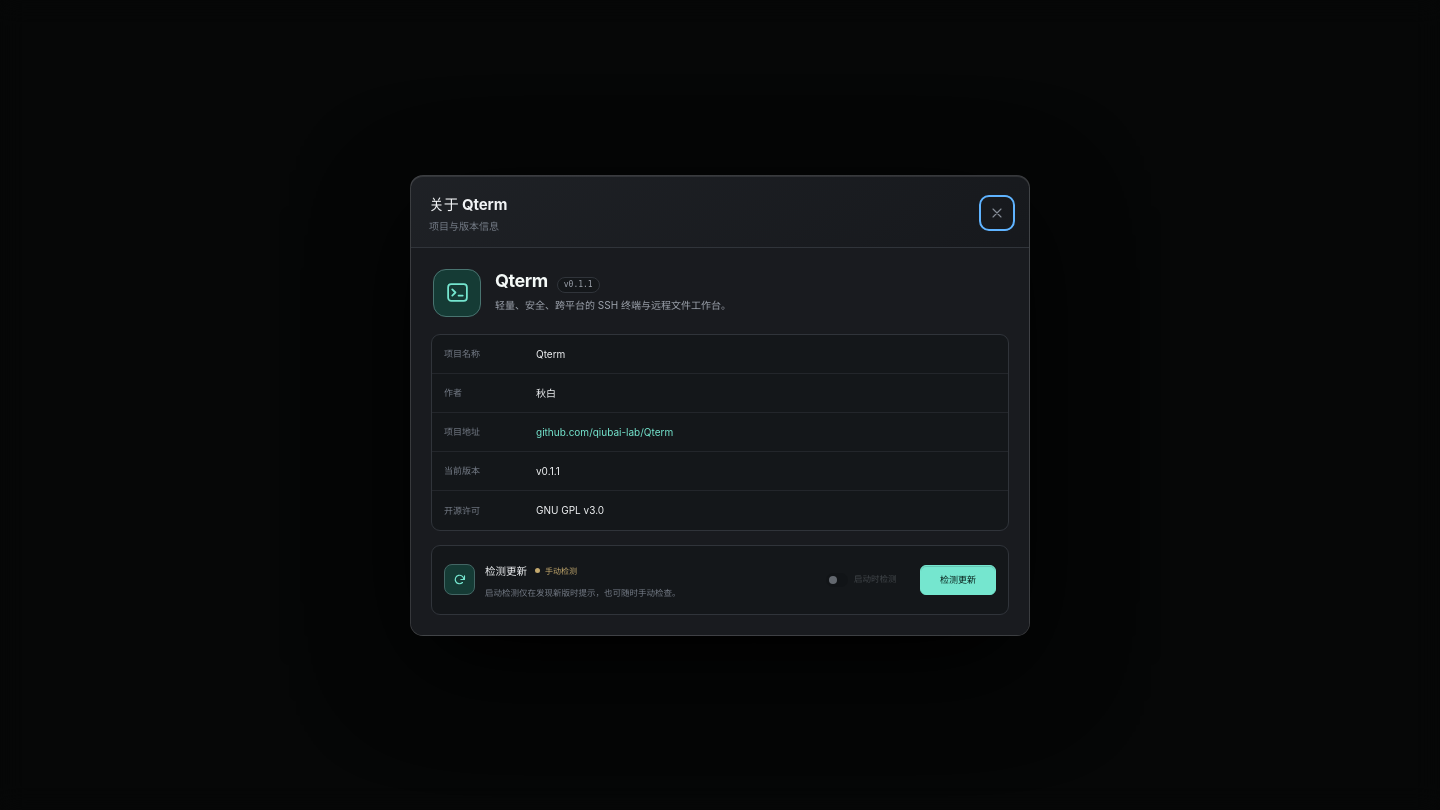
it: HelpDialog › opens the project explicitly and allows retry after an external browser failure
Click the link "github.com/qiubai-lab/Qterm".
click(605, 432)  # box x1=536 y1=426 x2=673 y2=438
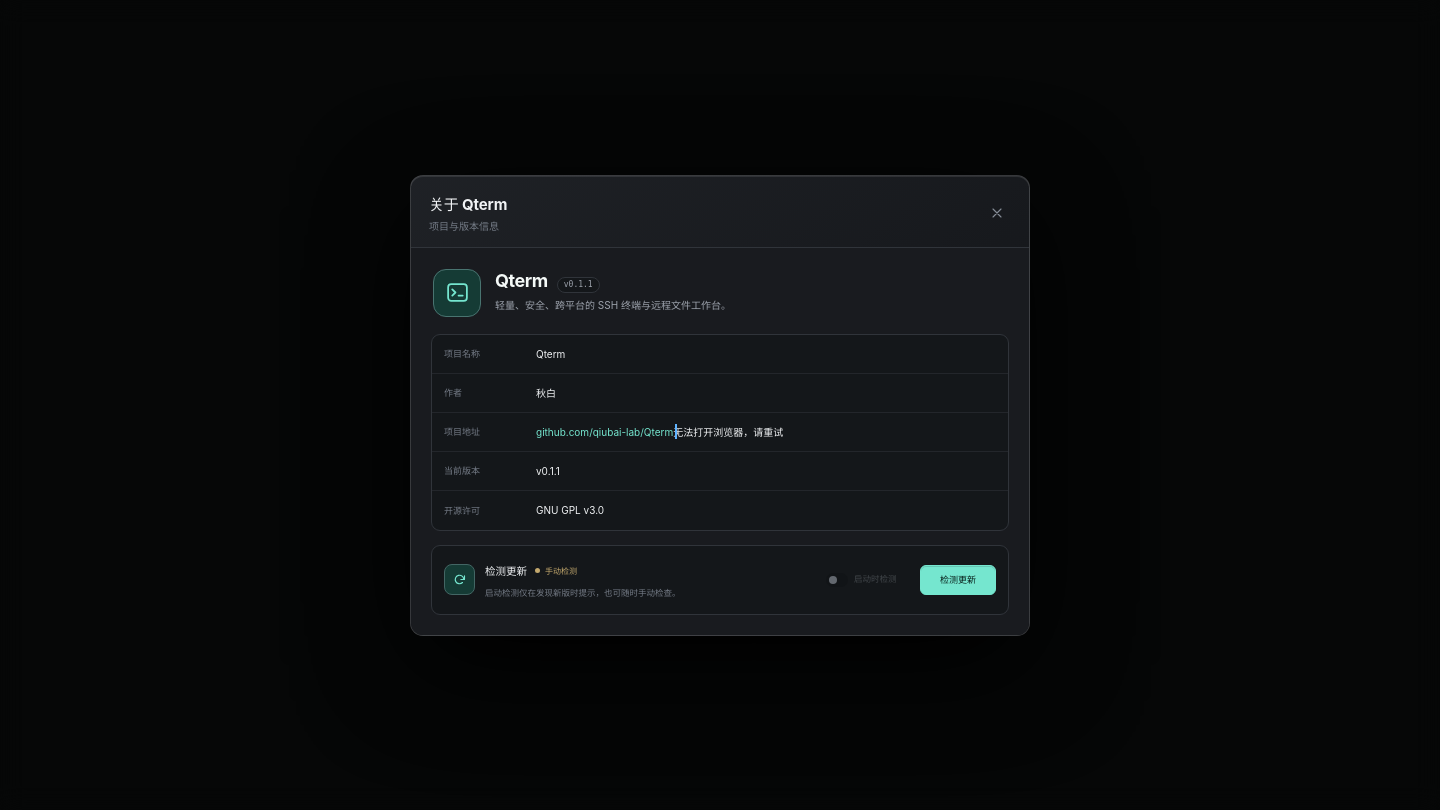
Check: the message reads "无法打开浏览器，请重试", box x1=673 y1=426 x2=783 y2=438
Click the link "github.com/qiubai-lab/Qterm".
click(605, 432)  # box x1=536 y1=426 x2=673 y2=438
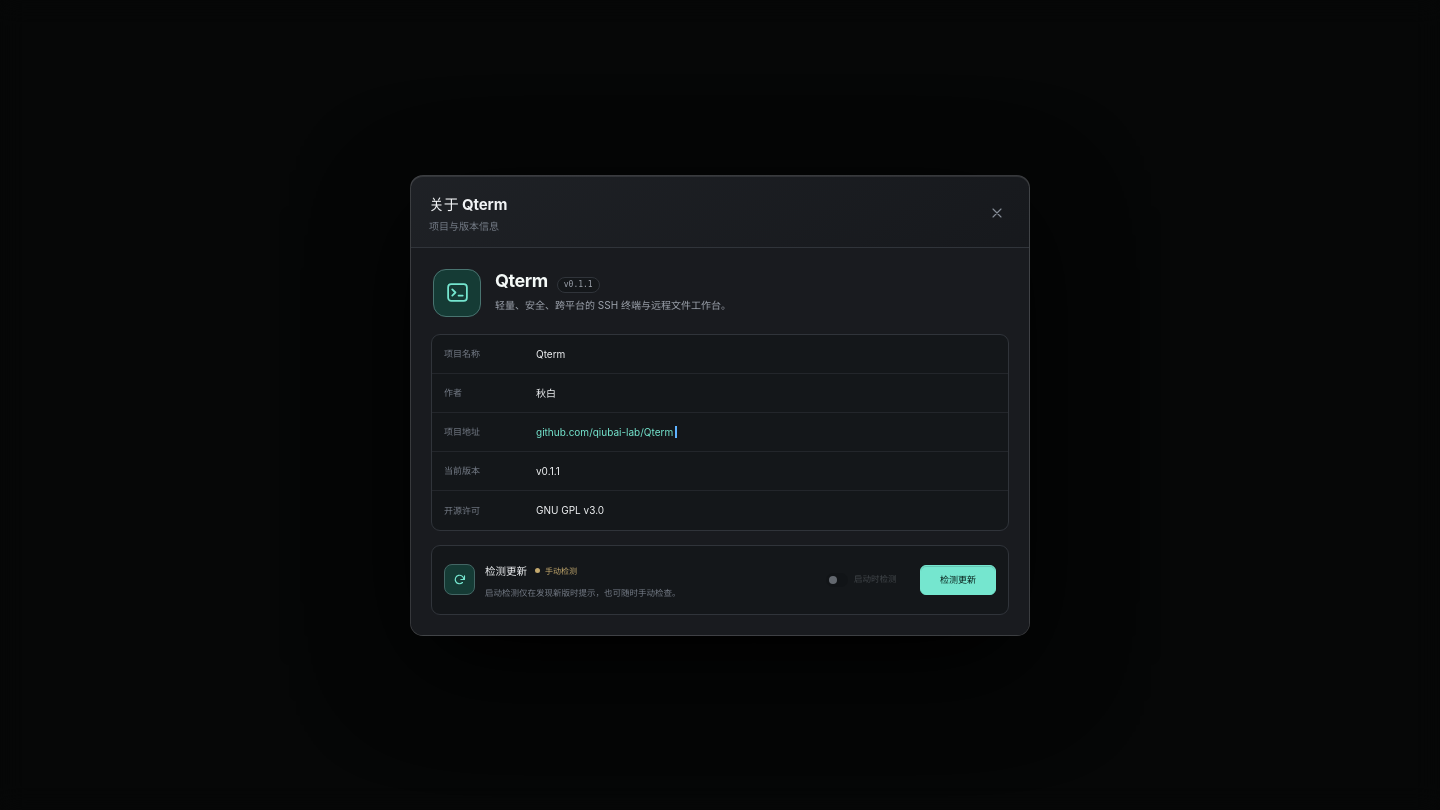
Check: the message "无法打开浏览器，请重试" is gone
